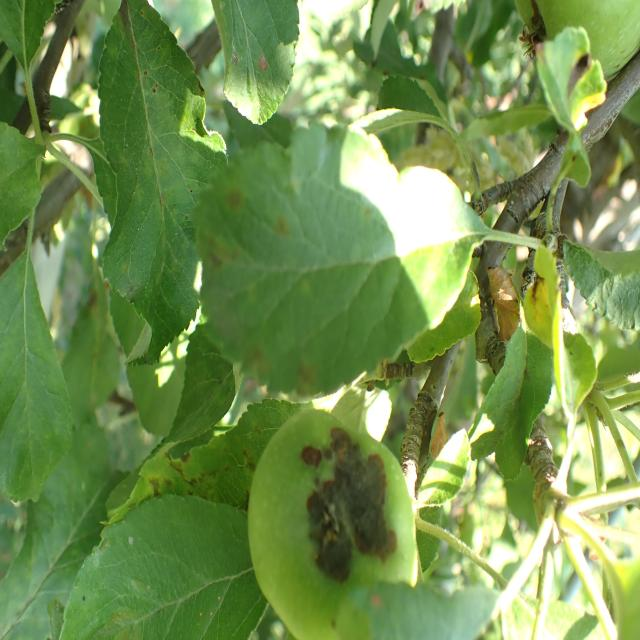scab: (186, 160, 432, 392), (102, 6, 192, 296)
